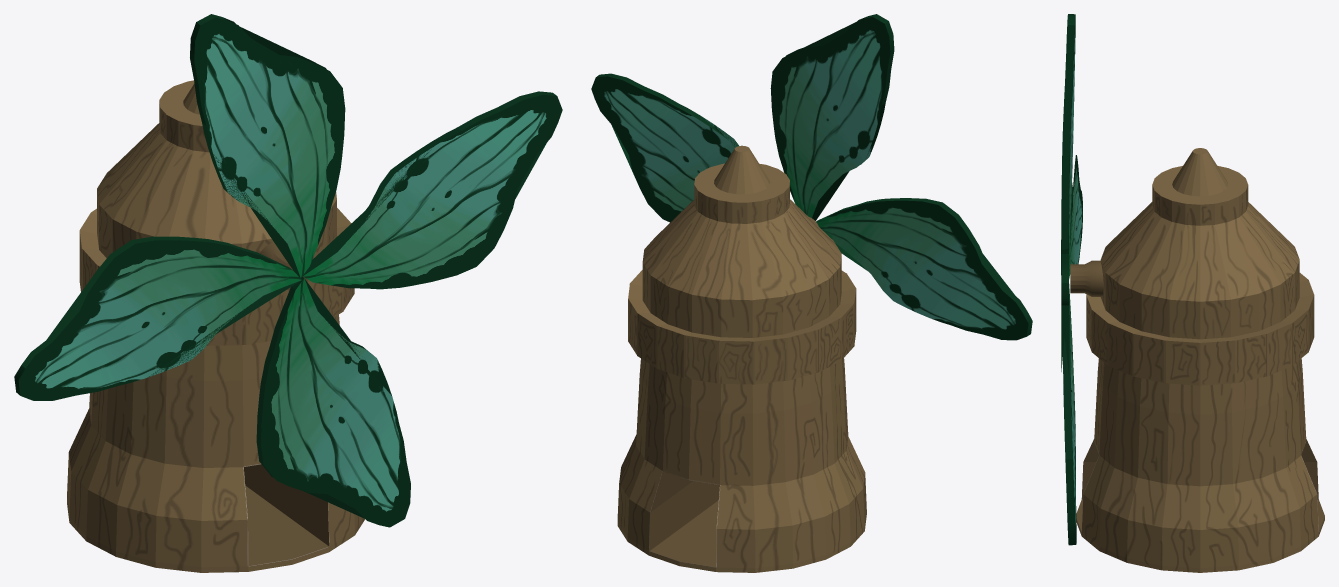
File: moinho_1final.fbx
3 renders of one model, left to right at view 1: azimuth 30°, elevation 25°; view 2: azimuth 150°, elevation 25°; view 3: azimuth 270°, elevation 25°, orthographic. The views are drawn at different scales.
Parts seen in each view (by area): view 1: Base_Moinho, Asas_modelo10, Asas_modelo11, Asas_modelo1, Asas_modelo9; view 2: Base_Moinho, Asas_modelo10, Asas_modelo11, Asas_modelo1; view 3: Base_Moinho, Asas_modelo11, Asas_modelo9, Asas_modelo10, Pega_Moinho, Asas_modelo1.
Boxes of the visible parts, x1,y1,x2,y2 form: Base_Moinho: (67,80,364,572); Asas_modelo10: (14,236,301,400); Asas_modelo11: (190,14,345,278); Asas_modelo1: (302,91,562,289); Asas_modelo9: (256,276,410,527); Base_Moinho: (617,145,866,572); Asas_modelo10: (816,198,1032,340); Asas_modelo11: (770,14,894,220); Asas_modelo1: (591,73,738,222); Base_Moinho: (1076,148,1324,572); Asas_modelo11: (1061,14,1075,274); Asas_modelo9: (1063,284,1076,545); Asas_modelo10: (1069,155,1082,278); Pega_Moinho: (1070,260,1103,296); Asas_modelo1: (1061,248,1068,374).
Size of the model in its own units: 20.51 by 20.89 by 10.6.
3 materials, 2 textured.
